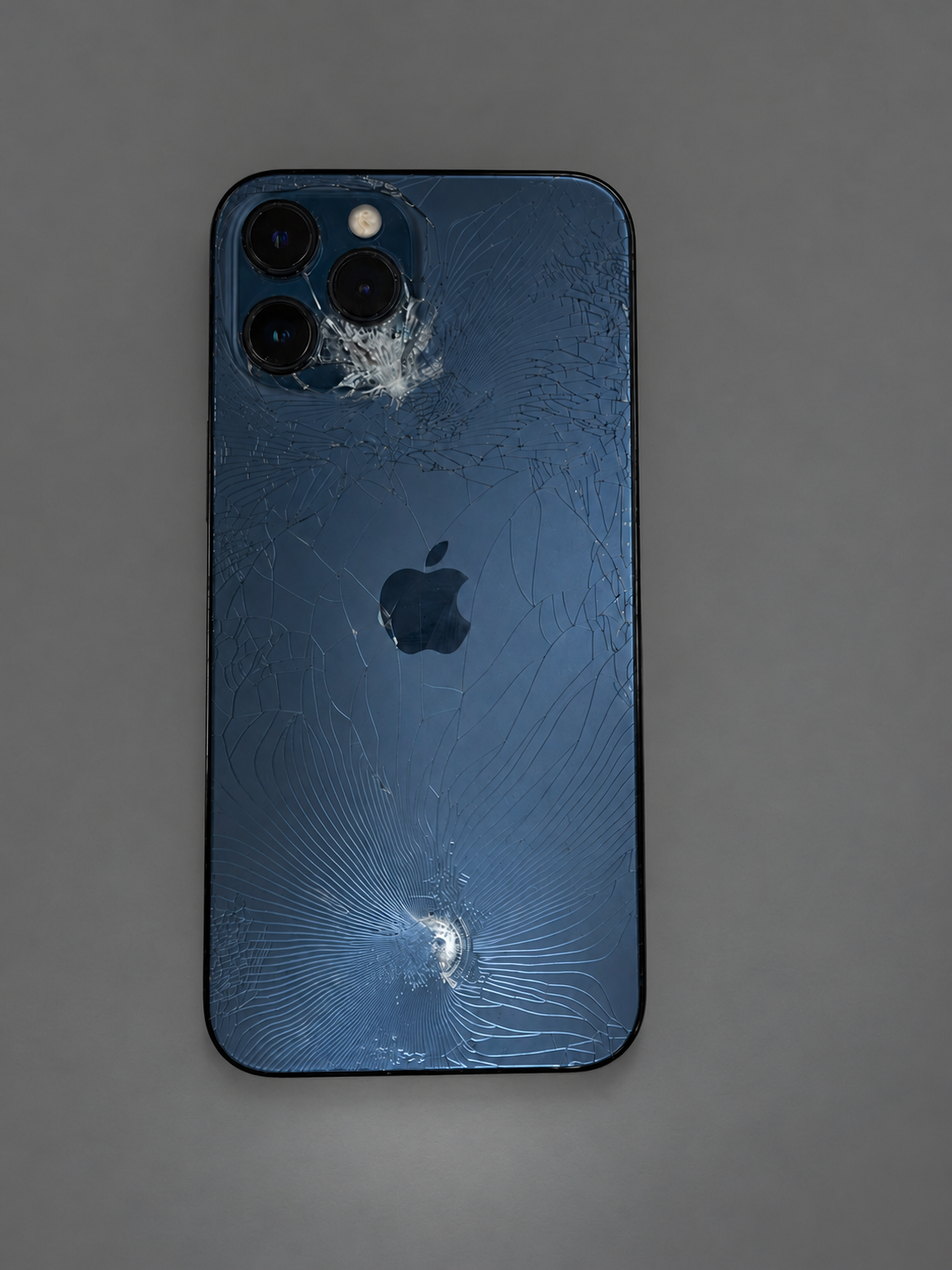iphone_12_pro_max_Crack: (148, 106, 727, 1128)
